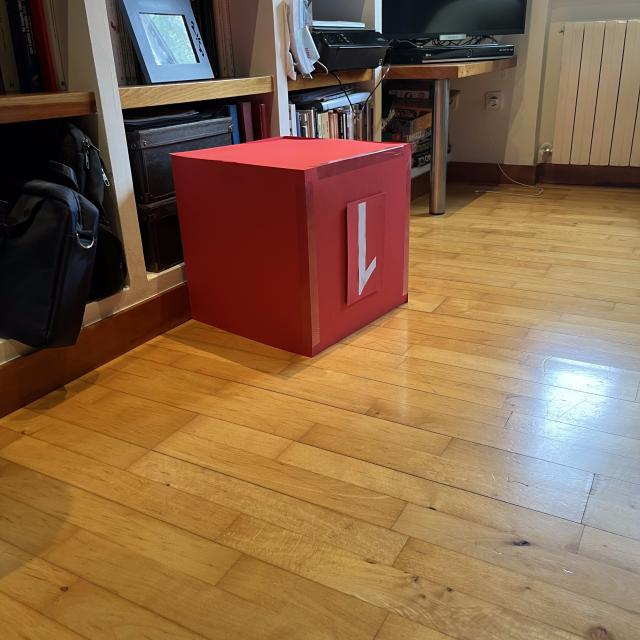box: (166, 132, 416, 360)
